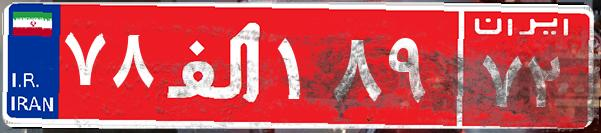1: (273, 28, 330, 110)
2: (525, 38, 570, 115)
7: (57, 26, 110, 107), (475, 38, 525, 113)
8: (330, 28, 385, 110), (110, 28, 158, 105)
9: (385, 28, 445, 110)
الف: (158, 15, 273, 115)
